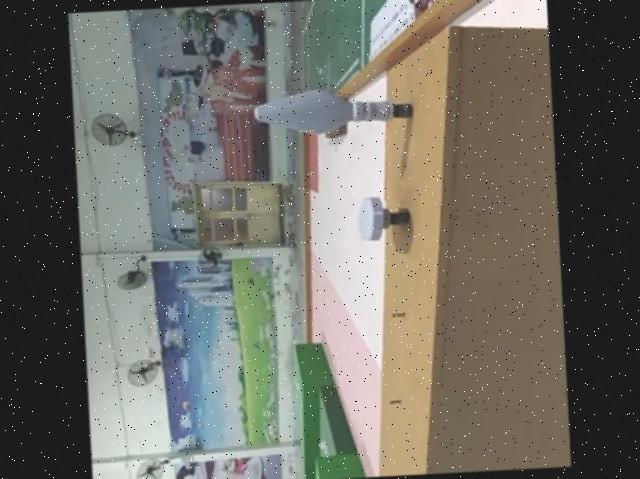Hand: (357, 191, 412, 242)
Sph: (252, 80, 409, 135)
